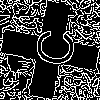C: (25, 25, 77, 69)
